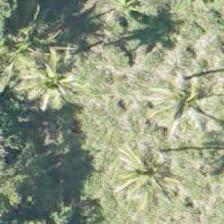Kelapa_Sawit: (109, 127, 199, 217), (0, 41, 87, 131), (162, 51, 223, 142)
